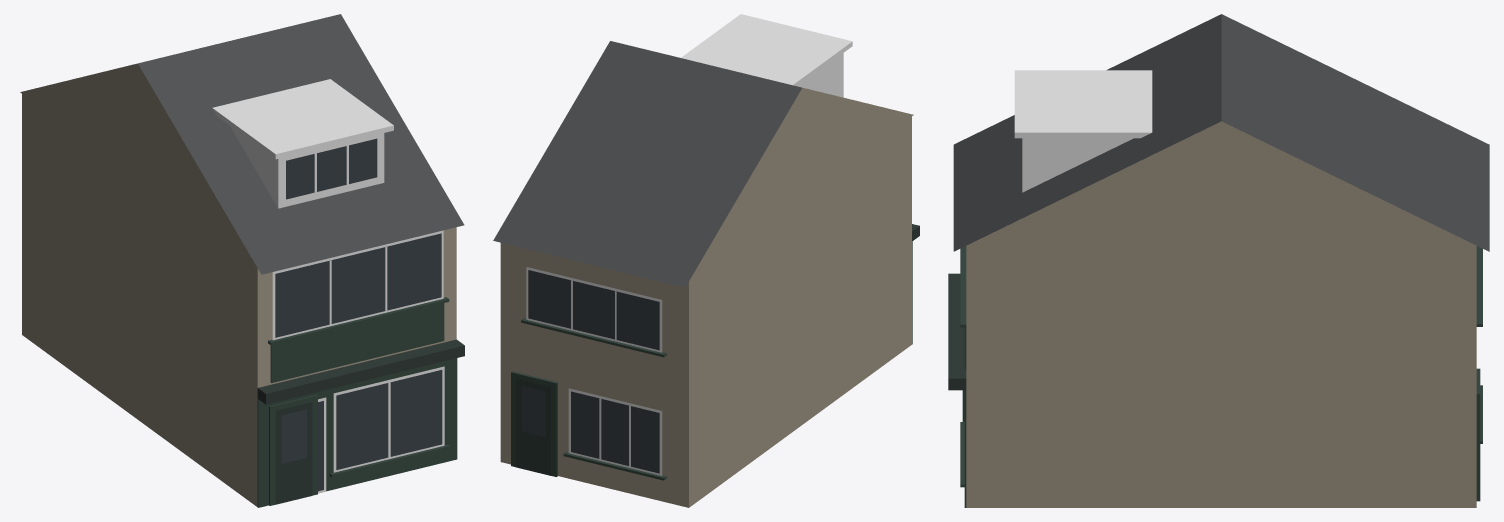
File: ws-dk-1971__dark__2__gable__long__solid.glb
3 renders of one model, left to right at view 1: azimuth 30°, elevation 25°; view 2: azimuth 150°, elevation 25°; view 3: azimuth 270°, elevation 25°, orthographic. The views are drawn at different scales.
Visible parts, largest first — view 1: ws-dk-1971__dark__2__gable__long__solid; view 2: ws-dk-1971__dark__2__gable__long__solid; view 3: ws-dk-1971__dark__2__gable__long__solid.
Part boxes in pixels (bbox=[...]): ws-dk-1971__dark__2__gable__long__solid: bbox=[20, 14, 464, 507]; ws-dk-1971__dark__2__gable__long__solid: bbox=[493, 14, 919, 507]; ws-dk-1971__dark__2__gable__long__solid: bbox=[948, 14, 1489, 507].
Bounding box in the file's own units: 4.98 × 8.39 × 10.61.
